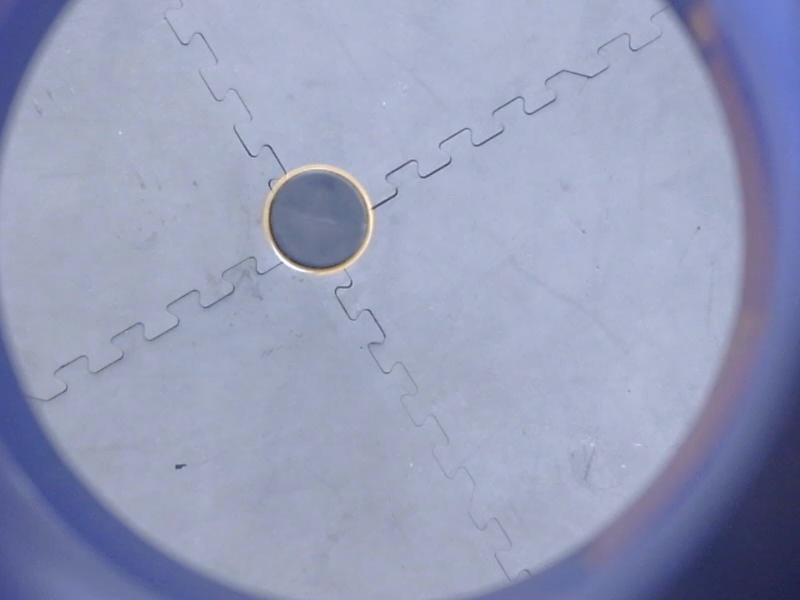tip: (257, 159, 382, 280)
